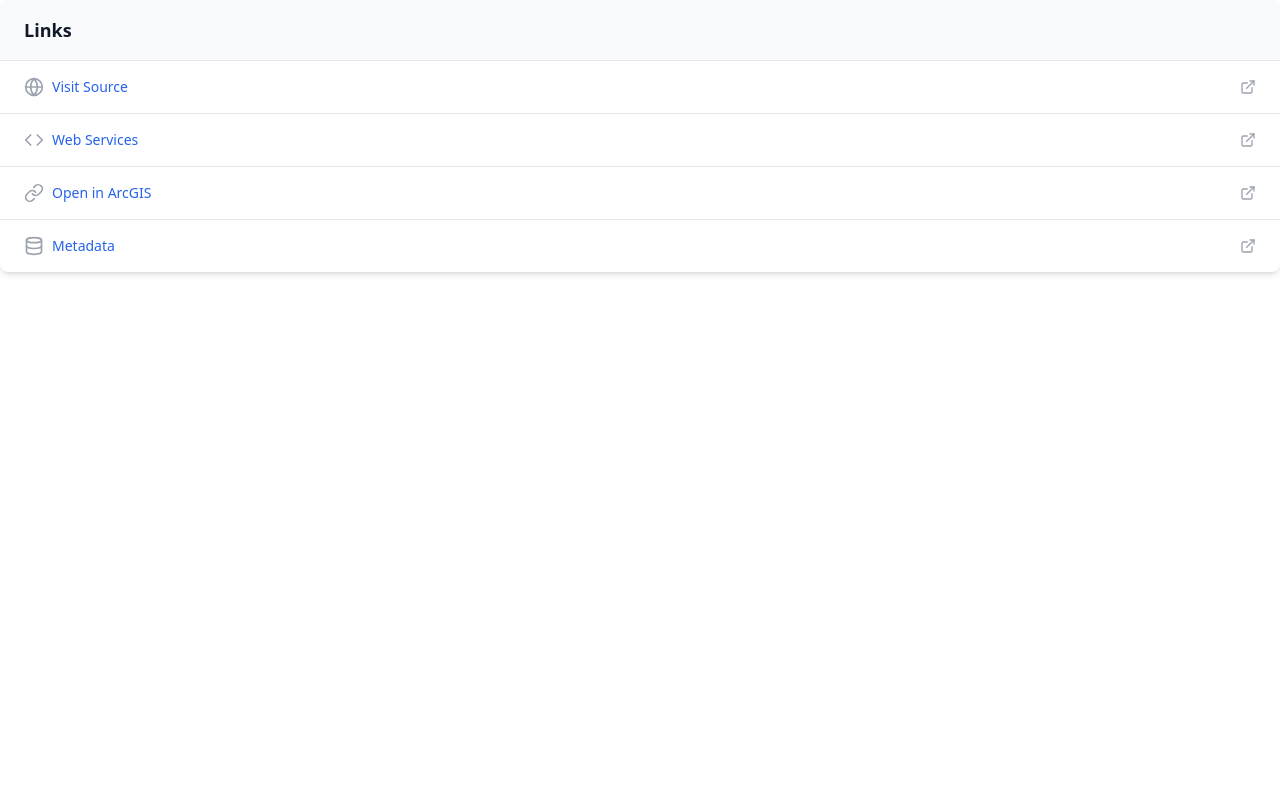
it: LinksTable › opens lightbox for Web Services category
Click the button "Web Services" at x=95, y=140, box [24, 130, 1256, 150]
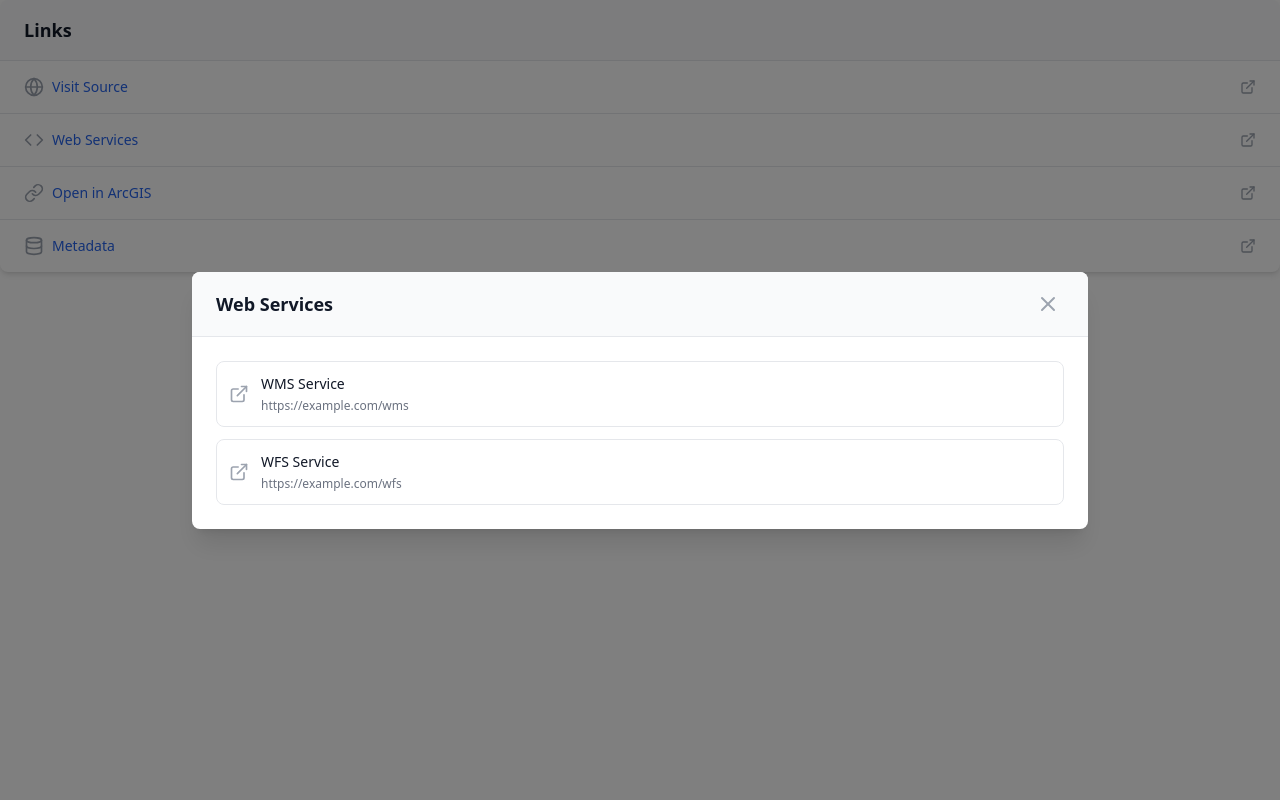
Check: the text "WMS Service" is shown, box [261, 374, 345, 392]
Check: the text "WFS Service" is shown, box [261, 452, 339, 470]
